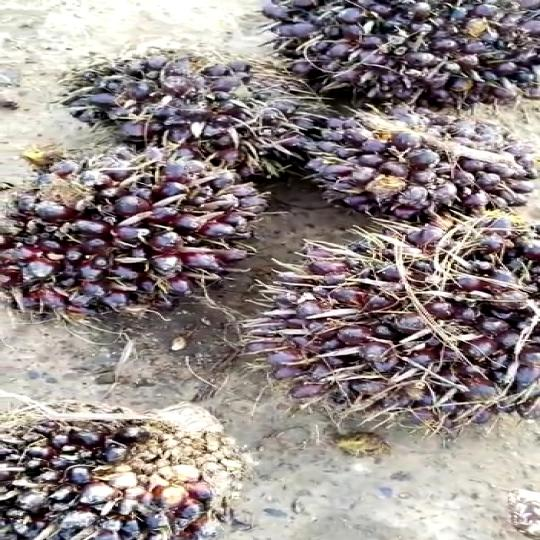mentah: (274, 212, 540, 444), (0, 140, 253, 347), (7, 148, 256, 316), (1, 397, 258, 540), (265, 0, 540, 112), (56, 45, 295, 172), (314, 100, 522, 217)
